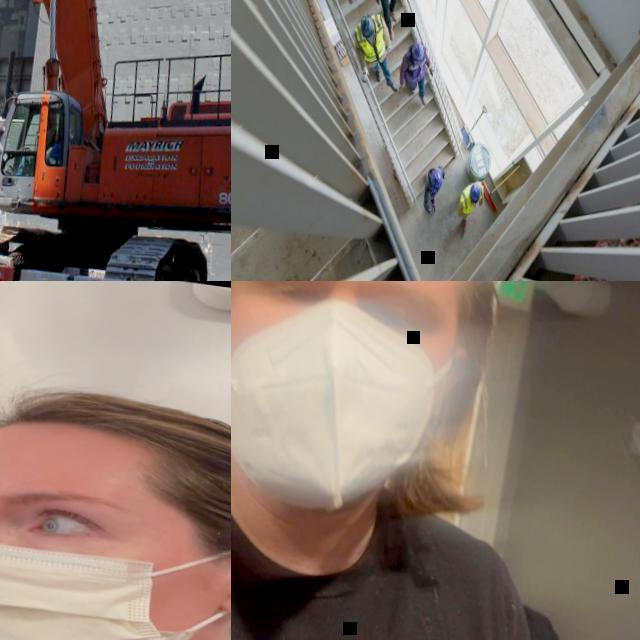helmet: (359, 14, 376, 40), (412, 42, 427, 64), (430, 170, 444, 190), (469, 183, 482, 204)
machinery: (0, 0, 231, 281)
mask: (231, 285, 460, 530), (0, 495, 231, 640)
no_helmet: (0, 377, 231, 518)
no_vest: (231, 432, 530, 640)
person: (231, 281, 633, 640), (0, 355, 231, 640), (348, 10, 408, 94), (396, 42, 438, 106), (363, 0, 414, 41), (456, 180, 486, 234), (422, 165, 448, 218)
vest: (351, 12, 390, 64), (458, 180, 484, 216), (403, 43, 428, 80)
